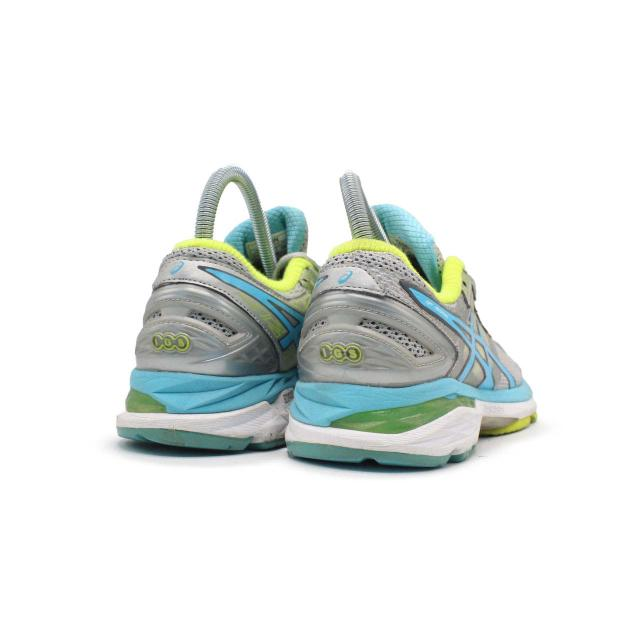heel: (133, 240, 310, 374), (301, 242, 455, 383)
midsole: (287, 379, 536, 468), (118, 366, 301, 451)
